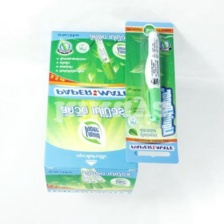book: (40, 27, 142, 198), (122, 18, 180, 165)
correction_fluid: (142, 28, 164, 125)
